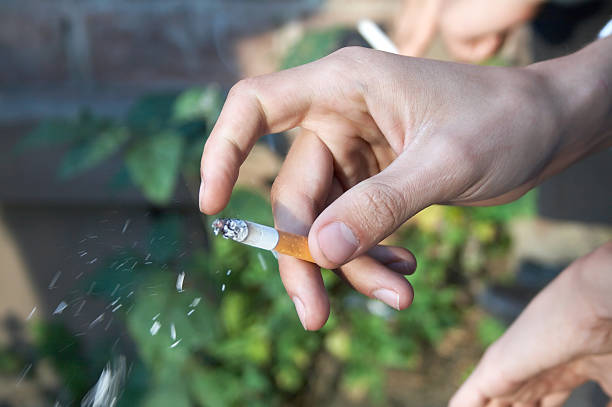cigarette: (210, 219, 325, 264)
